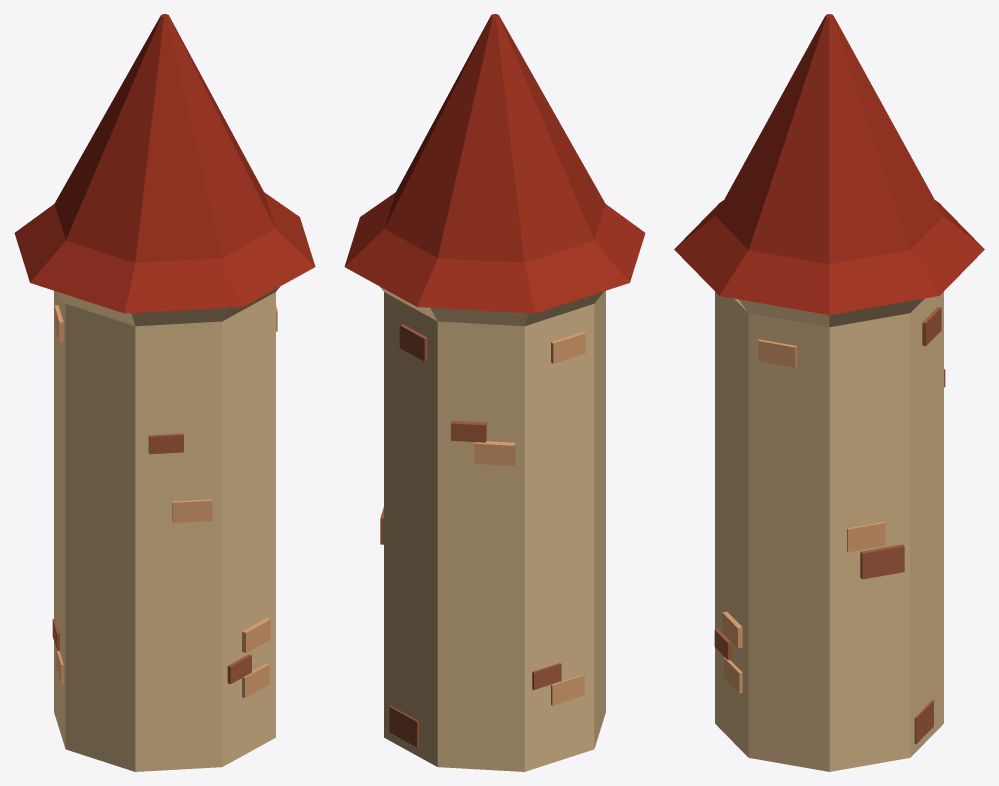
Rendered from Tower_5.glb.
3 renders of one model, left to right at view 1: azimuth 30°, elevation 25°; view 2: azimuth 150°, elevation 25°; view 3: azimuth 270°, elevation 25°, orthographic.
Visible parts, largest first — view 1: Tower_5; view 2: Tower_5; view 3: Tower_5.
Boxes of the visible parts, x1,y1,x2,y2 form: Tower_5: [14, 14, 315, 771]; Tower_5: [344, 14, 645, 771]; Tower_5: [674, 14, 984, 771].
Size of the model in its own units: 2 by 5.03 by 2.
